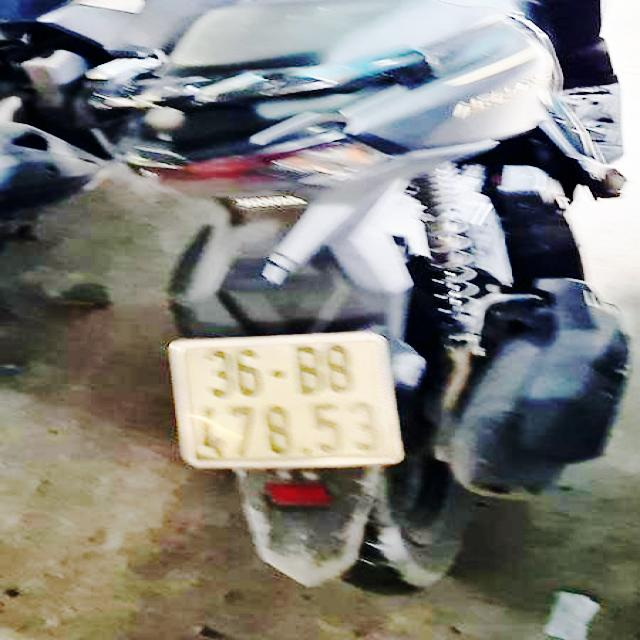license_plate: (172, 336, 400, 465)
